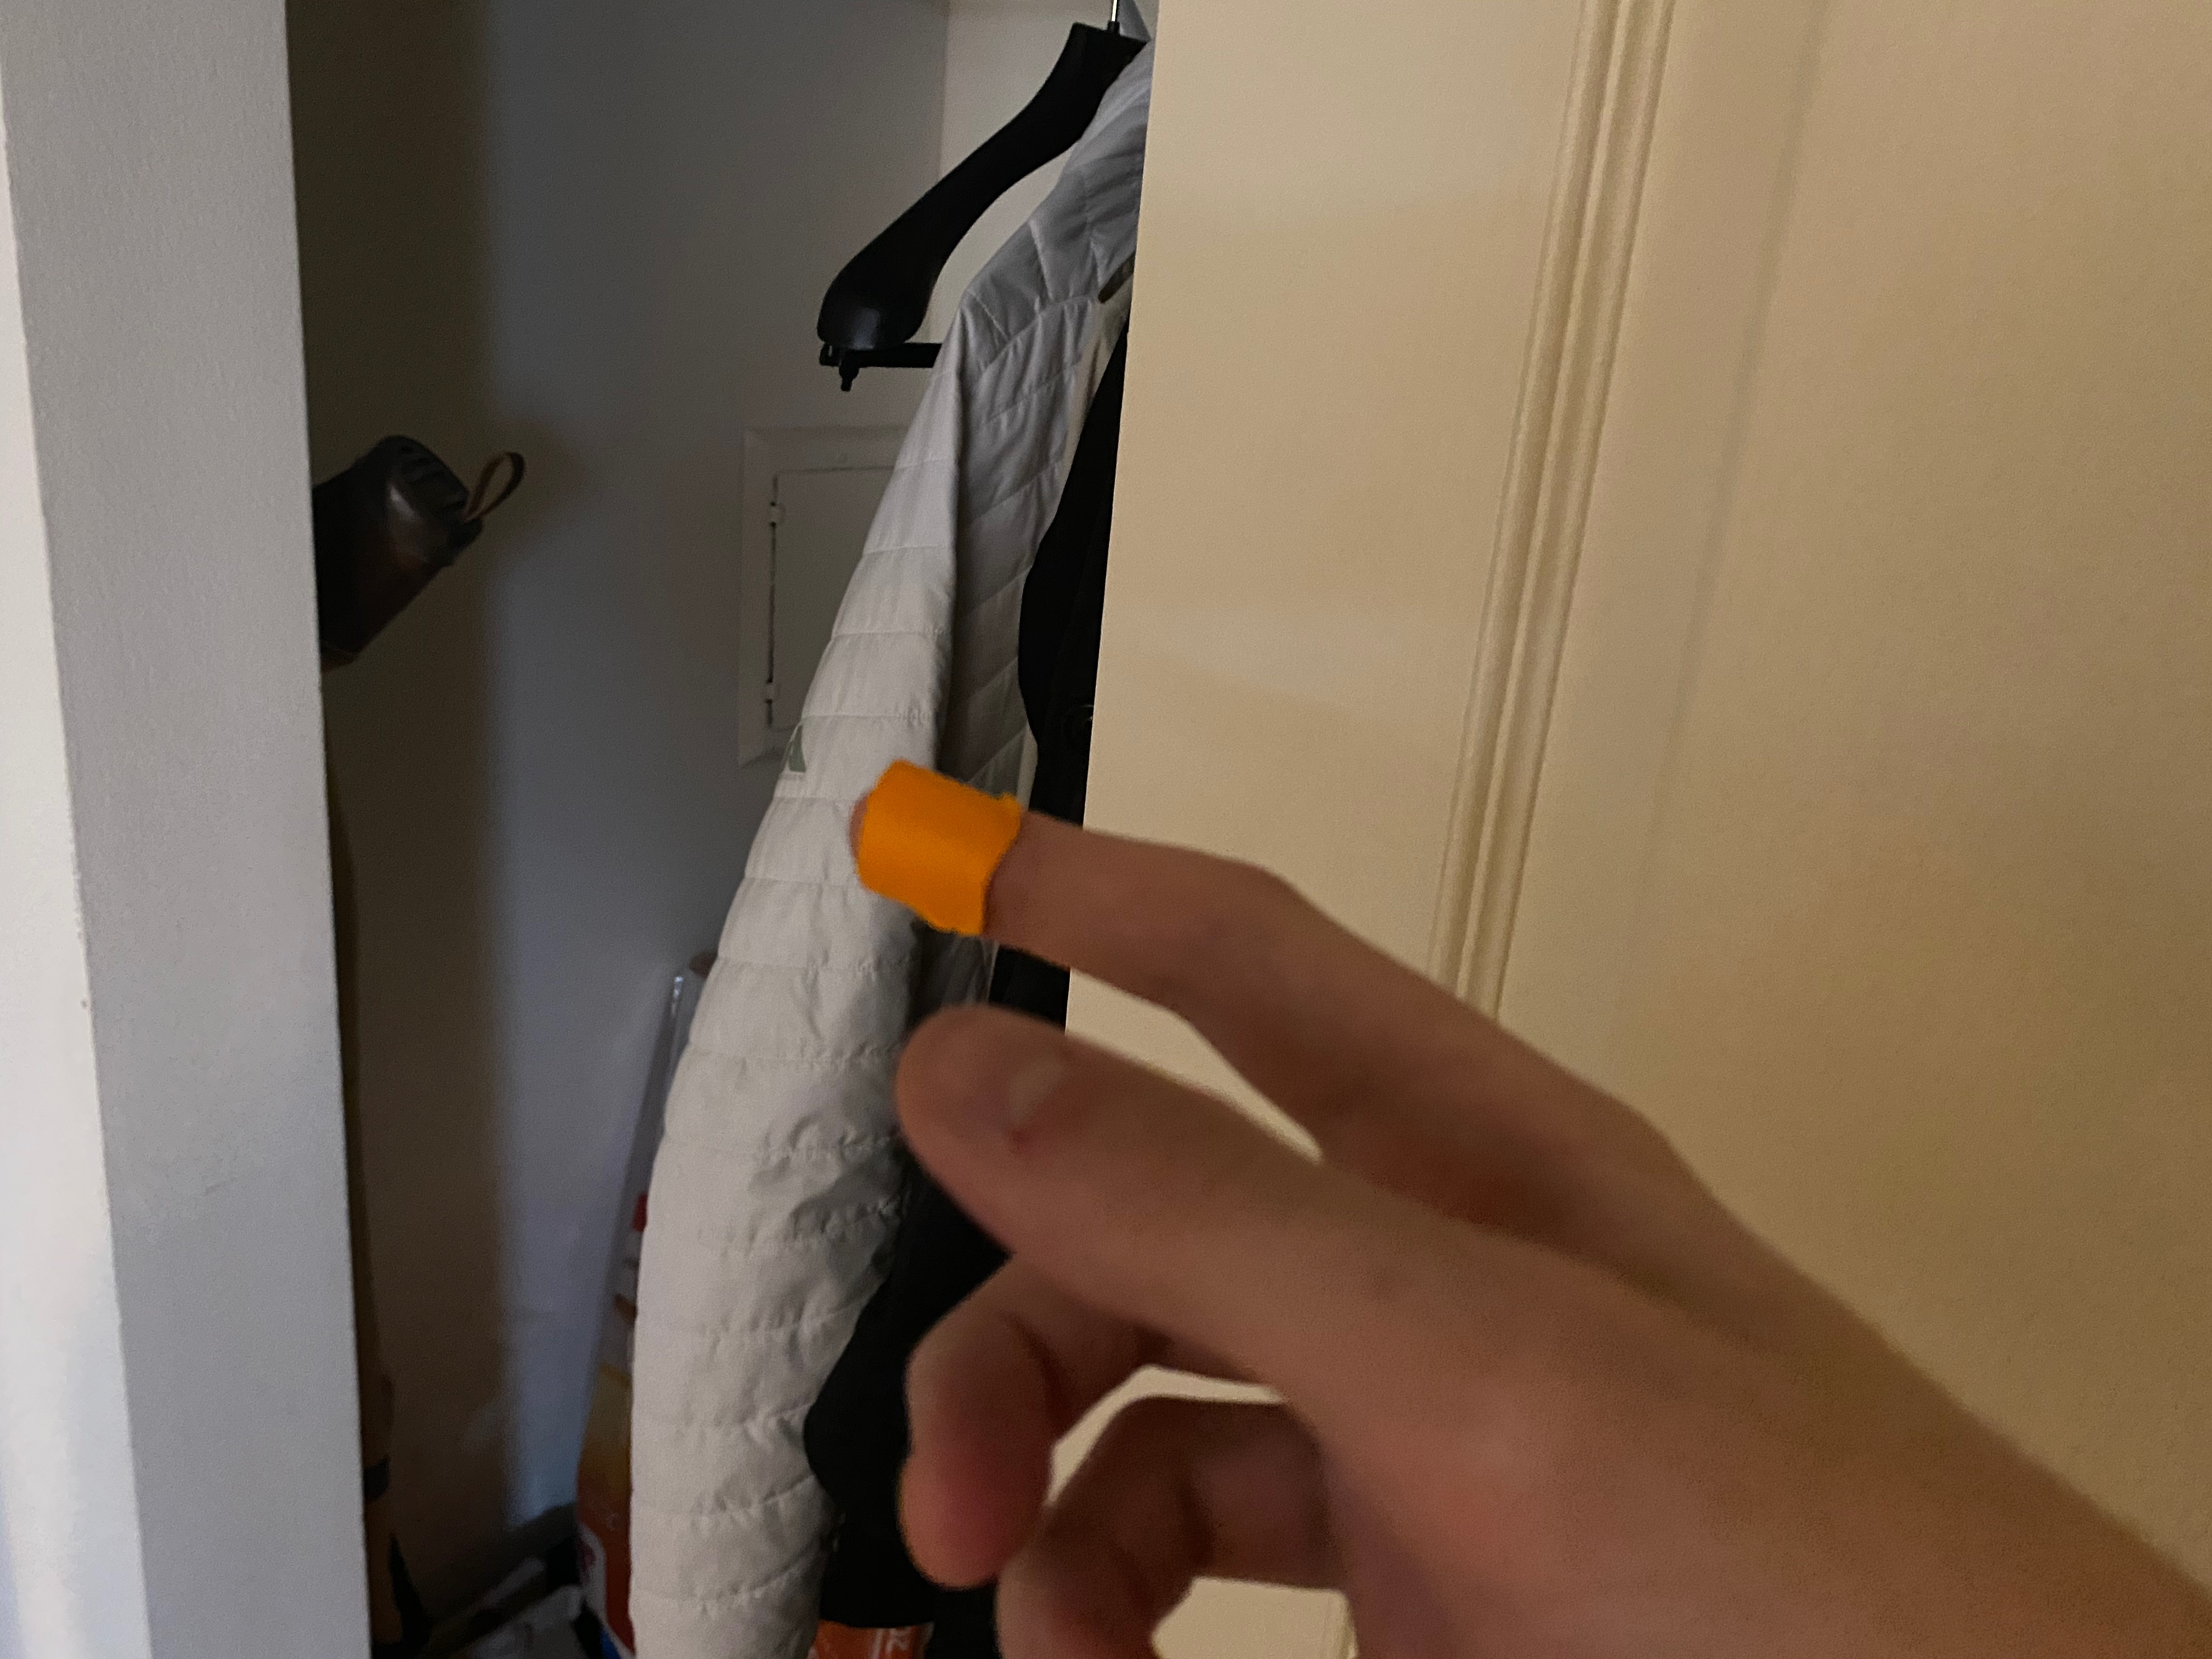fingertip: (826, 734, 1078, 964)
